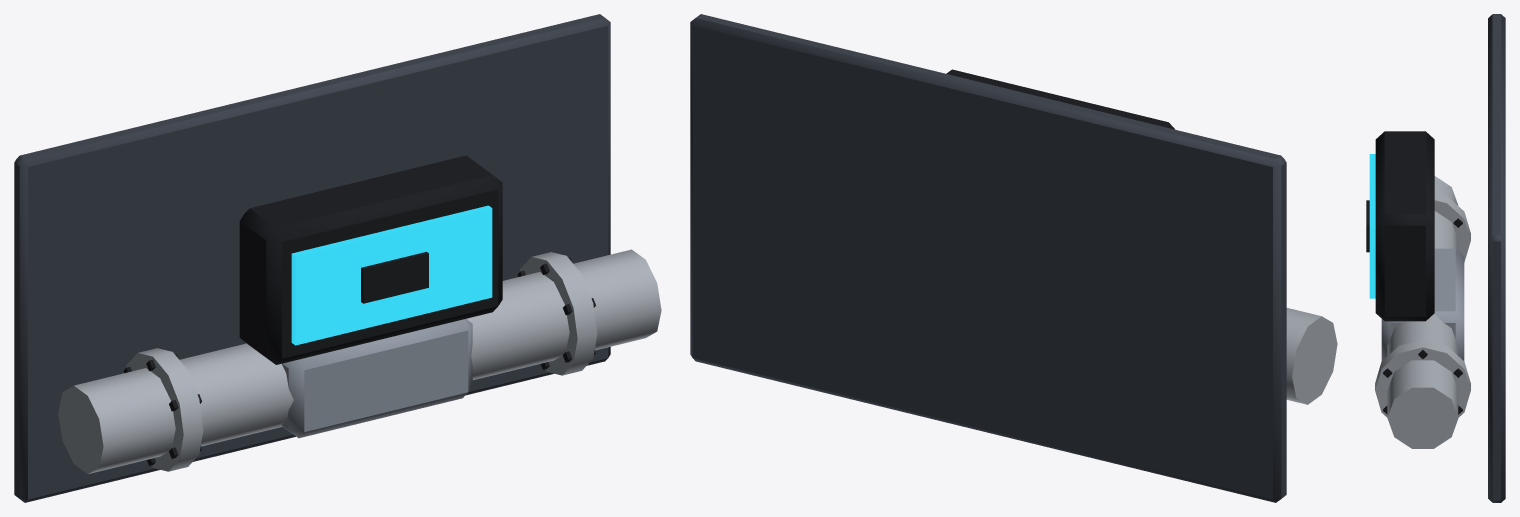
Rendered from valve_flow_meter.glb.
The picture shows the model from 3 angles, left to right: view 1: azimuth 30°, elevation 25°; view 2: azimuth 150°, elevation 25°; view 3: azimuth 270°, elevation 25°; orthographic projection. The views are drawn at different scales.
Parts seen in each view (by area): view 1: valve_flow_meter; view 2: valve_flow_meter; view 3: valve_flow_meter.
Part boxes in pixels (x1,y1,x2,y2): valve_flow_meter: [14, 14, 661, 502]; valve_flow_meter: [690, 14, 1337, 502]; valve_flow_meter: [1366, 14, 1505, 502].
Size of the model in its own units: 0.9 by 0.5 by 0.236.
